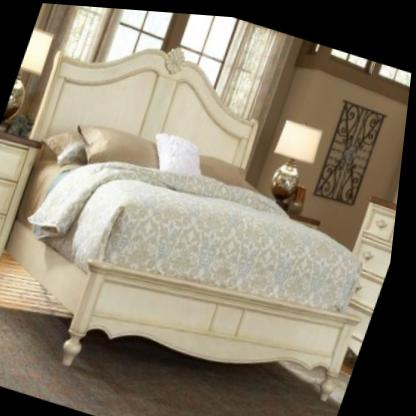Bed: (12, 50, 367, 396)
Carpet: (0, 307, 357, 416)
Nightstand: (356, 190, 401, 345), (0, 130, 45, 273)
